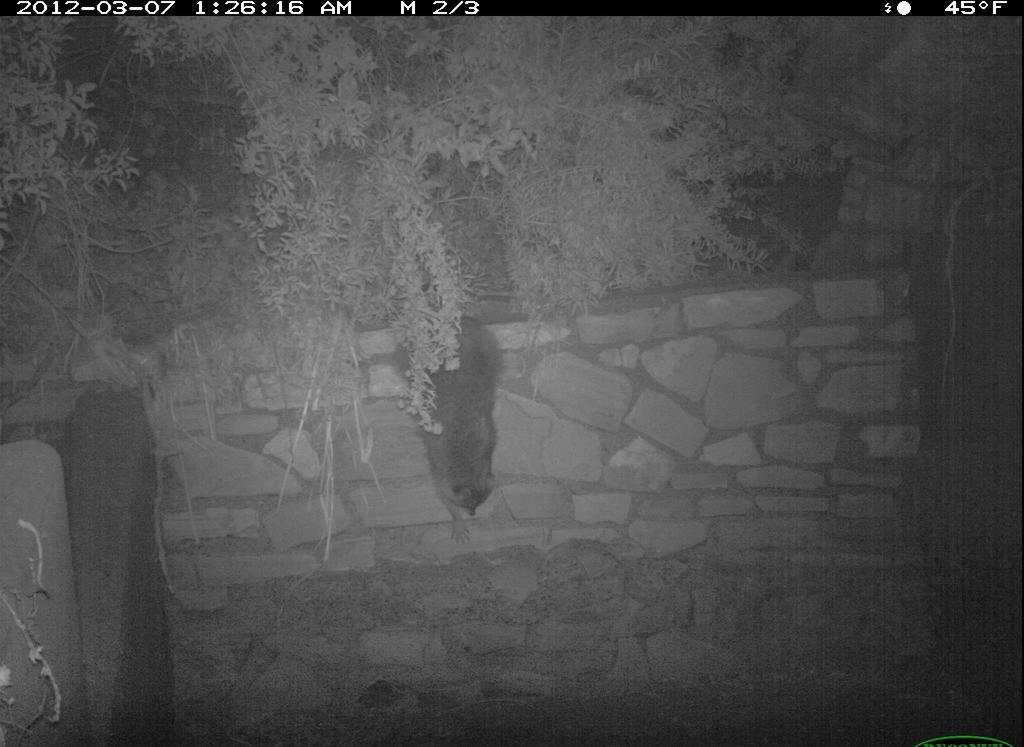raccoon: (388, 292, 539, 550)
